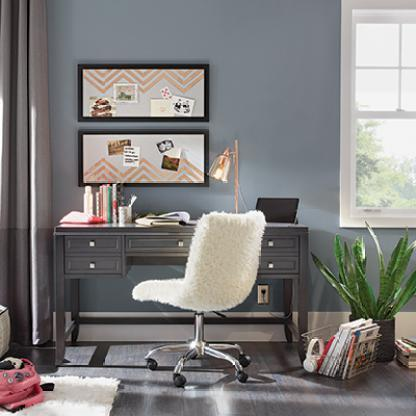chair: (128, 212, 268, 395)
light: (205, 137, 249, 212)
table: (52, 220, 310, 369)
